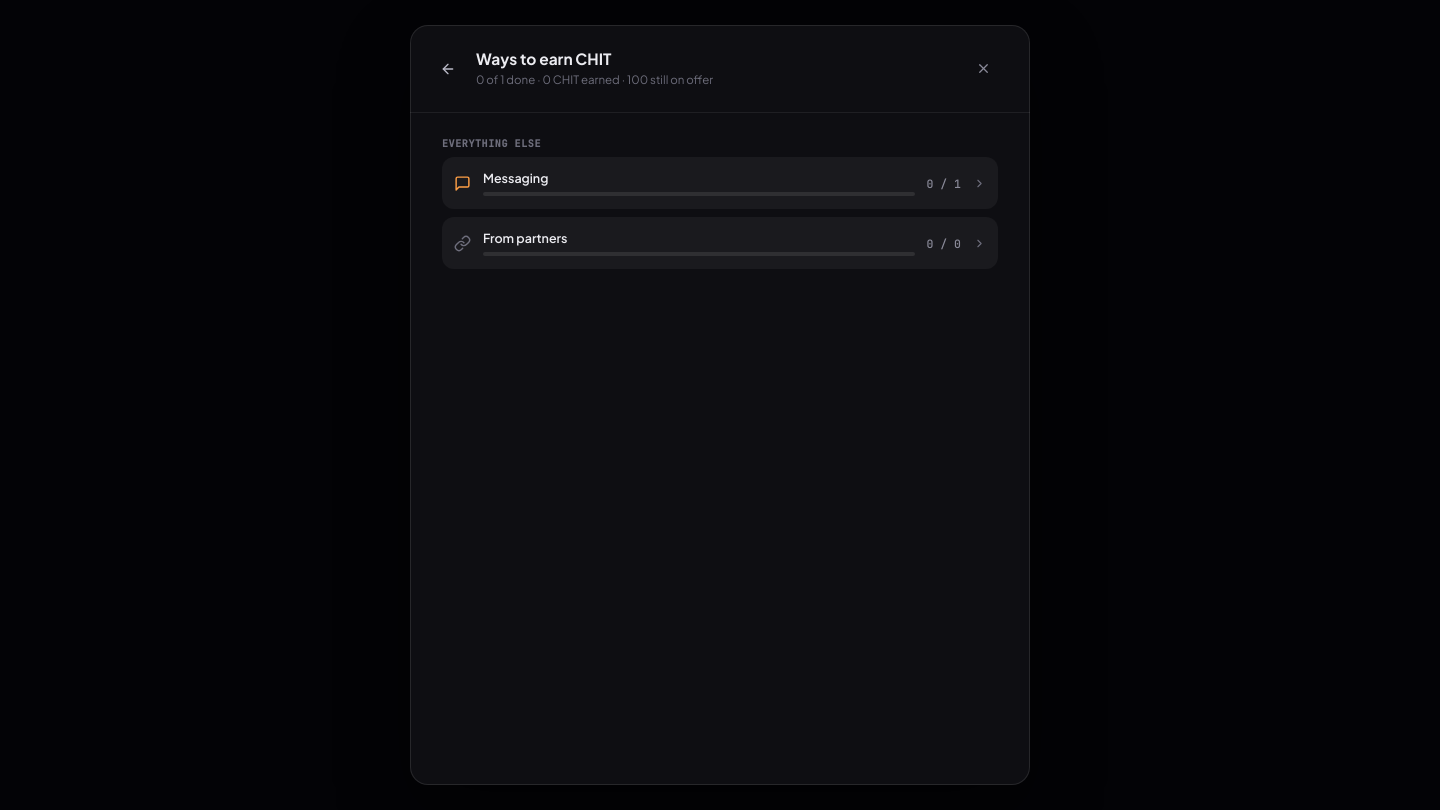
AchievementsDialog groups › a group the catalogue has nothing for is left out; an empty Partners group explains itself
Click the button with class "group-head" showing "From partners 0 / 0" at (525, 238), box top-left (454, 230), bottom-right (986, 256)
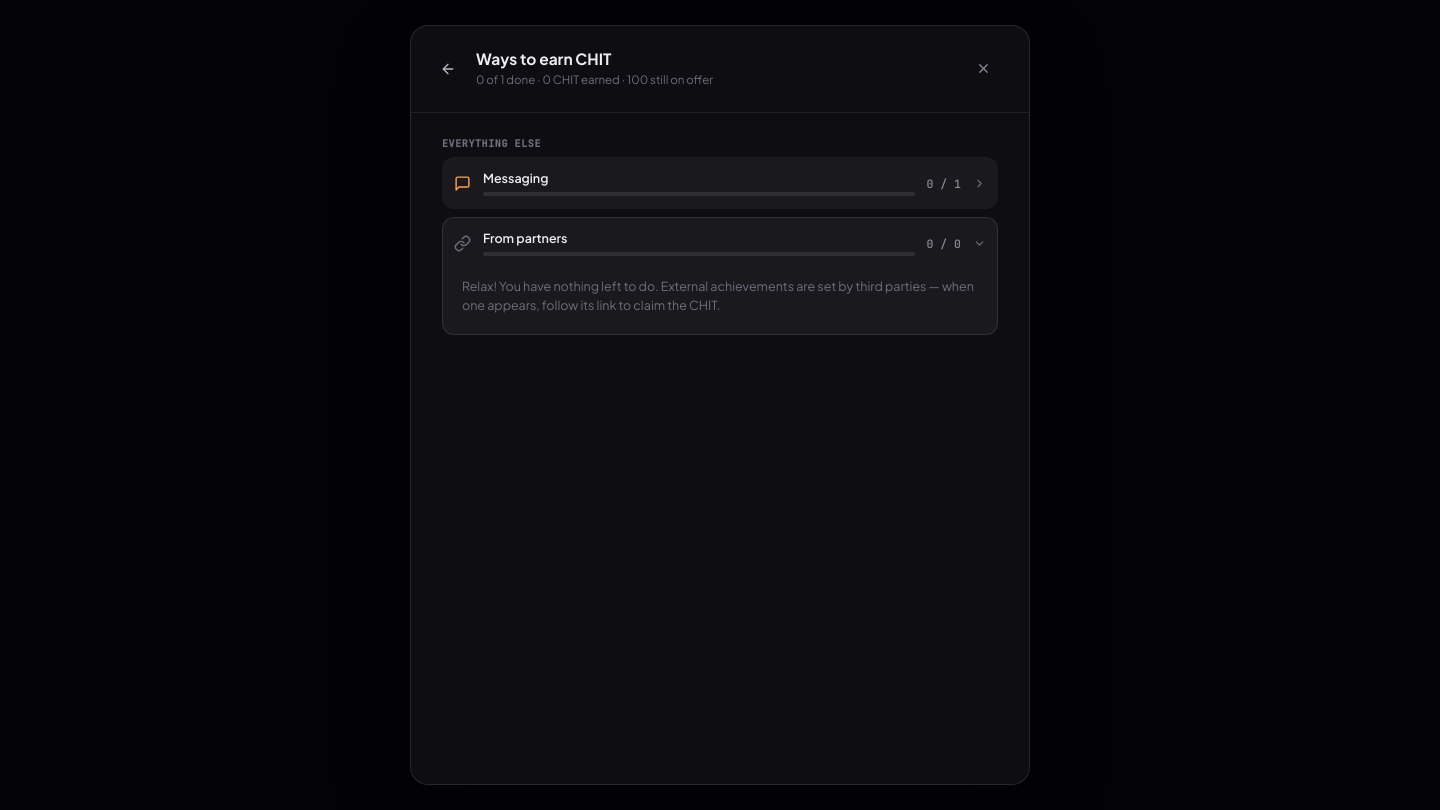
Expected: the text "External achievements are set by third parties" is shown, top-left (462, 278), bottom-right (974, 313)
